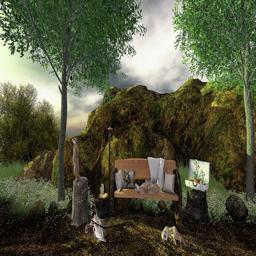Cuckoo: (90, 198, 107, 242)
